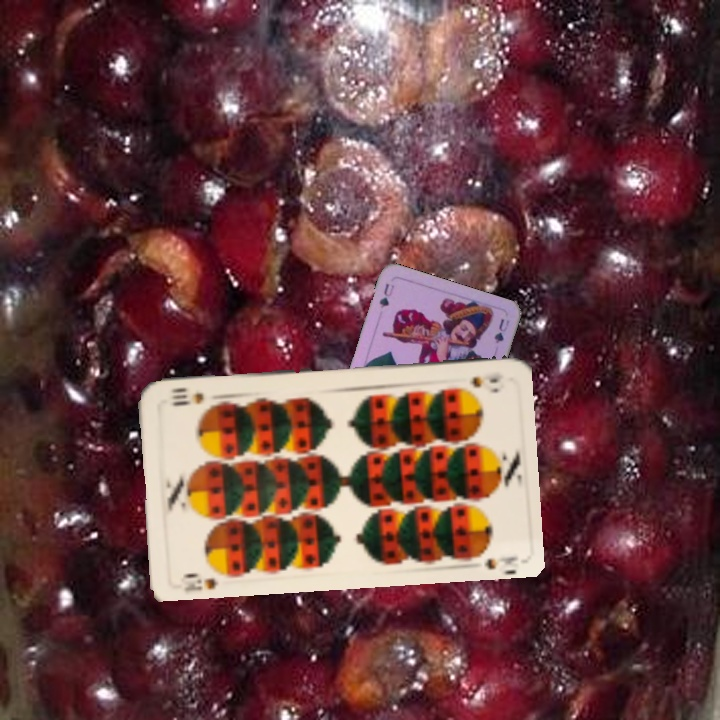GU: (375, 279, 397, 311)
S10: (180, 569, 219, 594), (465, 368, 506, 389)
